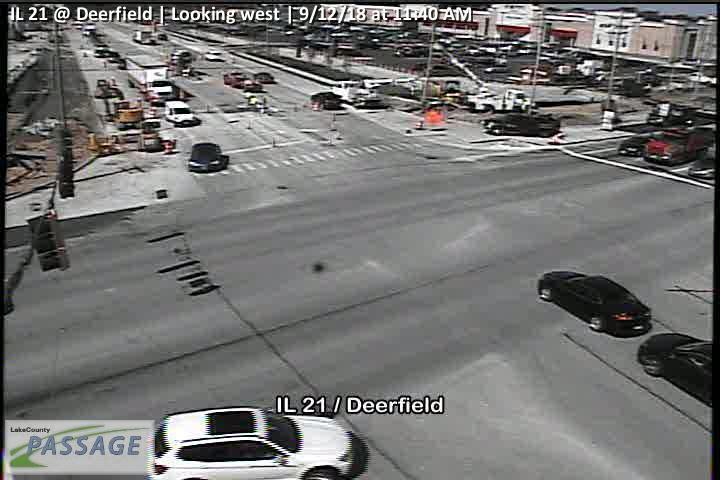SUV: (147, 406, 359, 480), (165, 100, 196, 125)
Sedan: (537, 269, 652, 338), (637, 331, 711, 407), (187, 142, 221, 174), (617, 135, 653, 158), (688, 156, 716, 179), (311, 91, 341, 109)
Truck: (642, 127, 716, 167), (126, 55, 173, 106), (478, 112, 559, 139)
